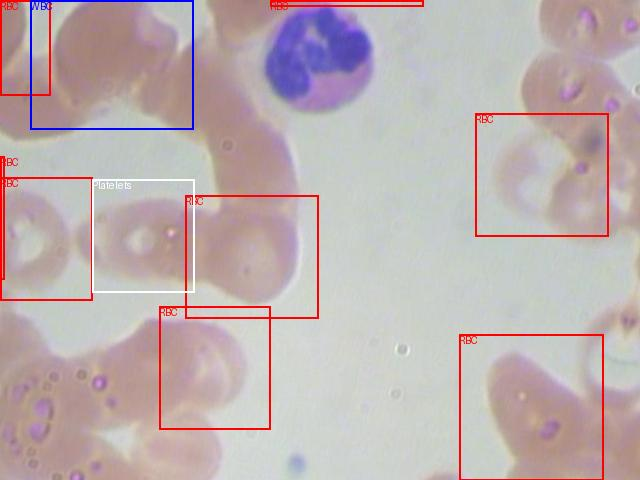Platelets: (92, 179, 194, 292)
RBC: (459, 334, 603, 480), (185, 195, 318, 318), (475, 113, 608, 236), (159, 306, 270, 429), (0, 177, 92, 300), (0, 0, 50, 95), (270, 0, 423, 6), (0, 156, 4, 279)
WBC: (30, 0, 193, 129)
